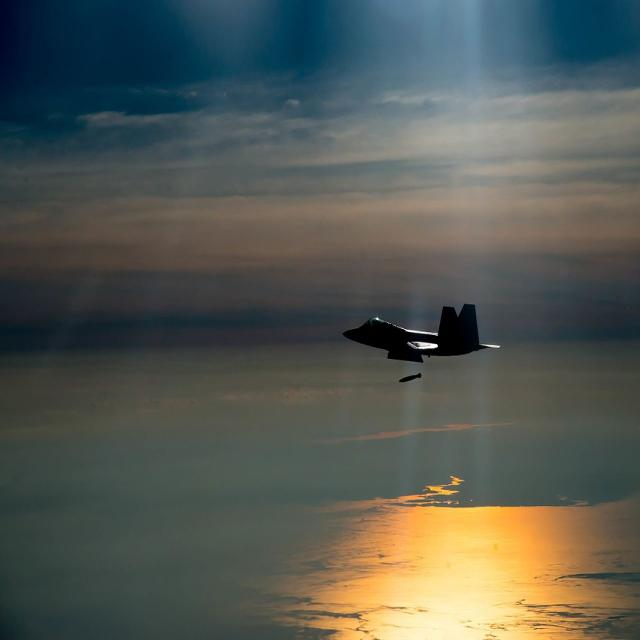MIL_Plane: (342, 302, 502, 362)
